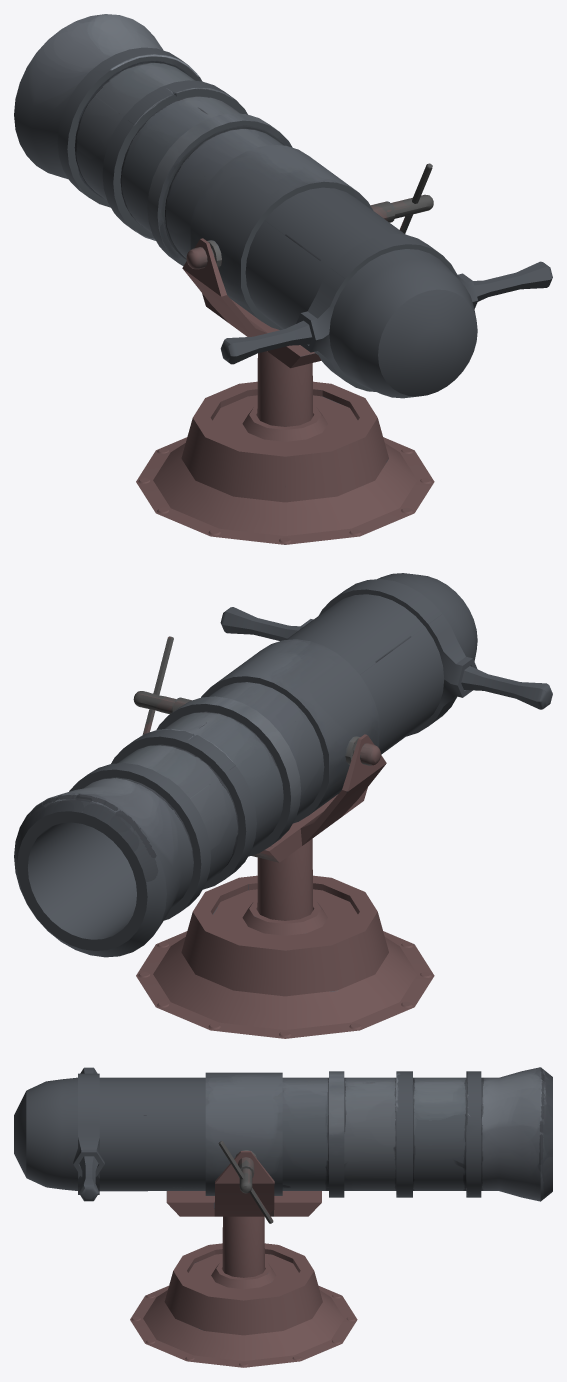
Rendered from SM_Cannon.fbx.
3 renders of one model, top to bottom at view 1: azimuth 30°, elevation 25°; view 2: azimuth 150°, elevation 25°; view 3: azimuth 270°, elevation 25°, orthographic. The views are drawn at different scales.
Parts seen in each view (by area): view 1: Cannon_Main, Cannon_Holder; view 2: Cannon_Main, Cannon_Holder; view 3: Cannon_Main, Cannon_Holder.
Part boxes in pixels (<box>): Cannon_Main: <box>14,14,552,398</box>; Cannon_Holder: <box>136,351,434,544</box>; Cannon_Main: <box>14,573,552,957</box>; Cannon_Holder: <box>136,838,434,1038</box>; Cannon_Main: <box>14,1067,552,1223</box>; Cannon_Holder: <box>130,1216,357,1367</box>.
Bounding box in the file's own units: 100 × 190 × 95.83.
